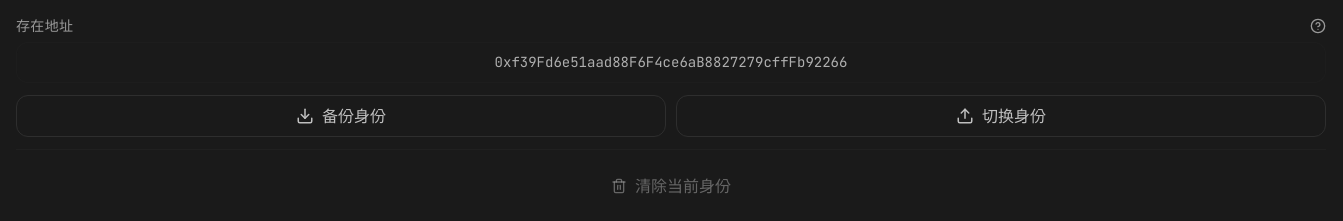
Test case: IdentityPanel › Mode Switching › should navigate to import mode
This screenshot has width=1343, height=221.
Click the button "切换身份" at (1001, 116), box [676,95,1326,137]
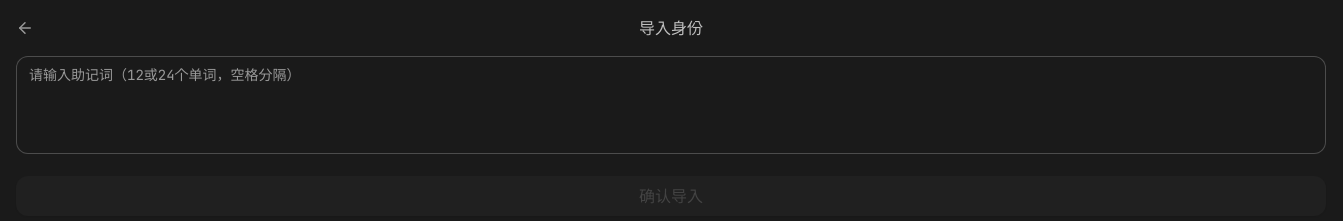
Result: the heading "导入身份" is shown at [639,16,703,40]
